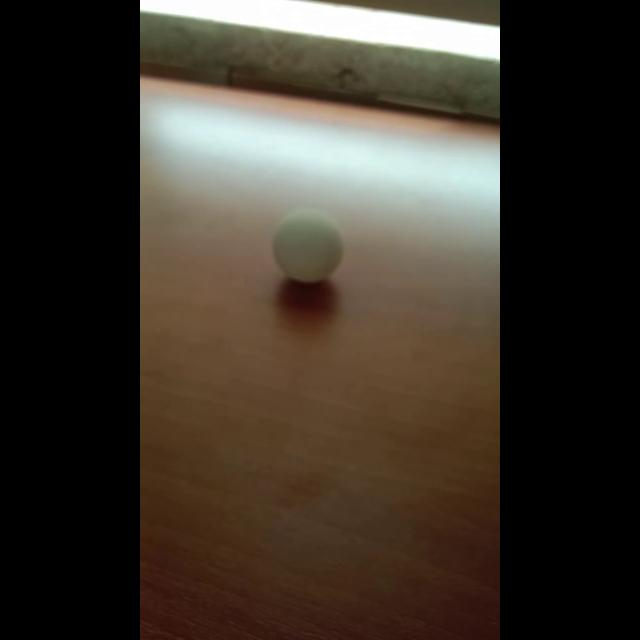white ball: (270, 208, 344, 284)
